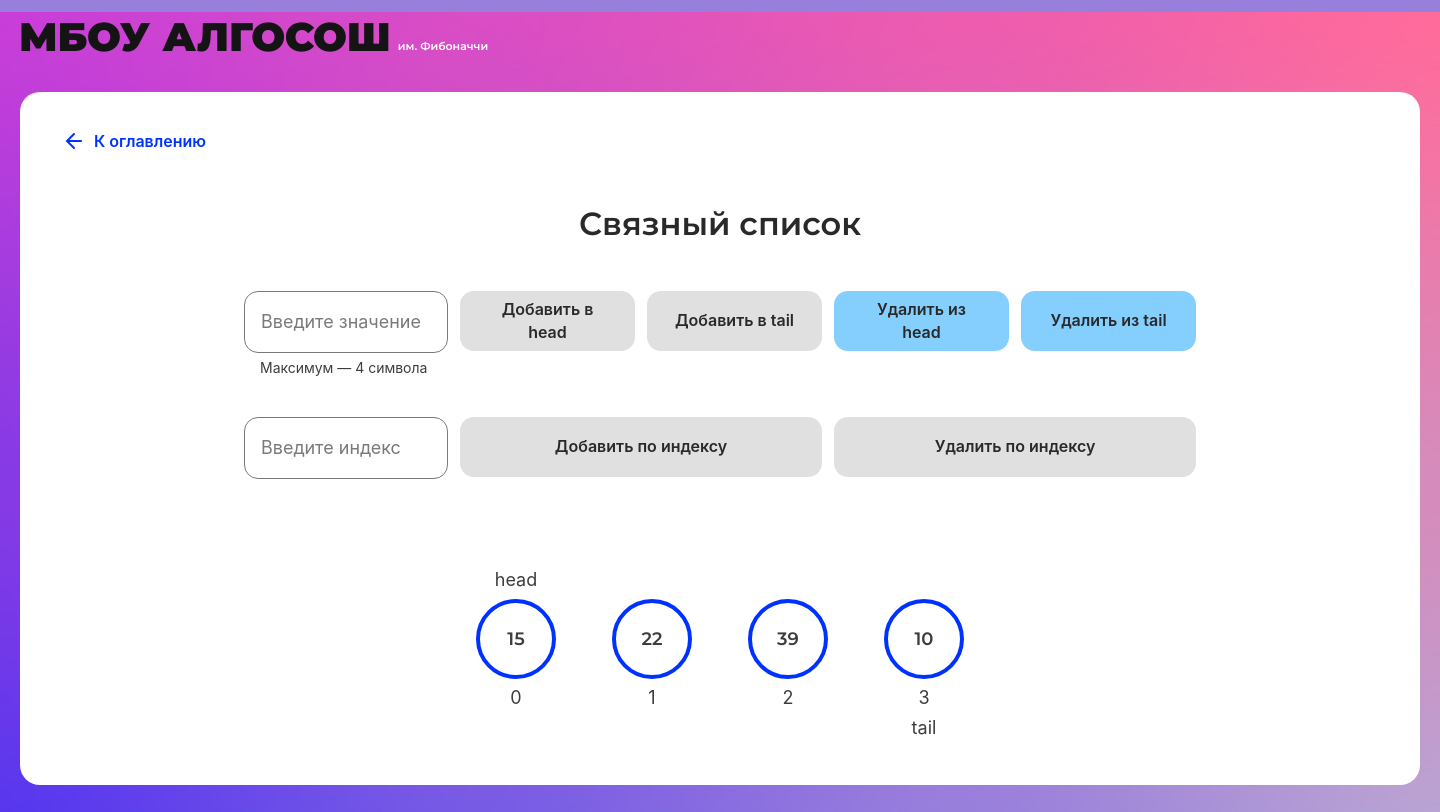
Test: List page test › Add input value cant be longer then 4
In the field with placeholder "Введите значение": {"x": 346, "y": 322} [244, 291, 448, 353], type "11111"
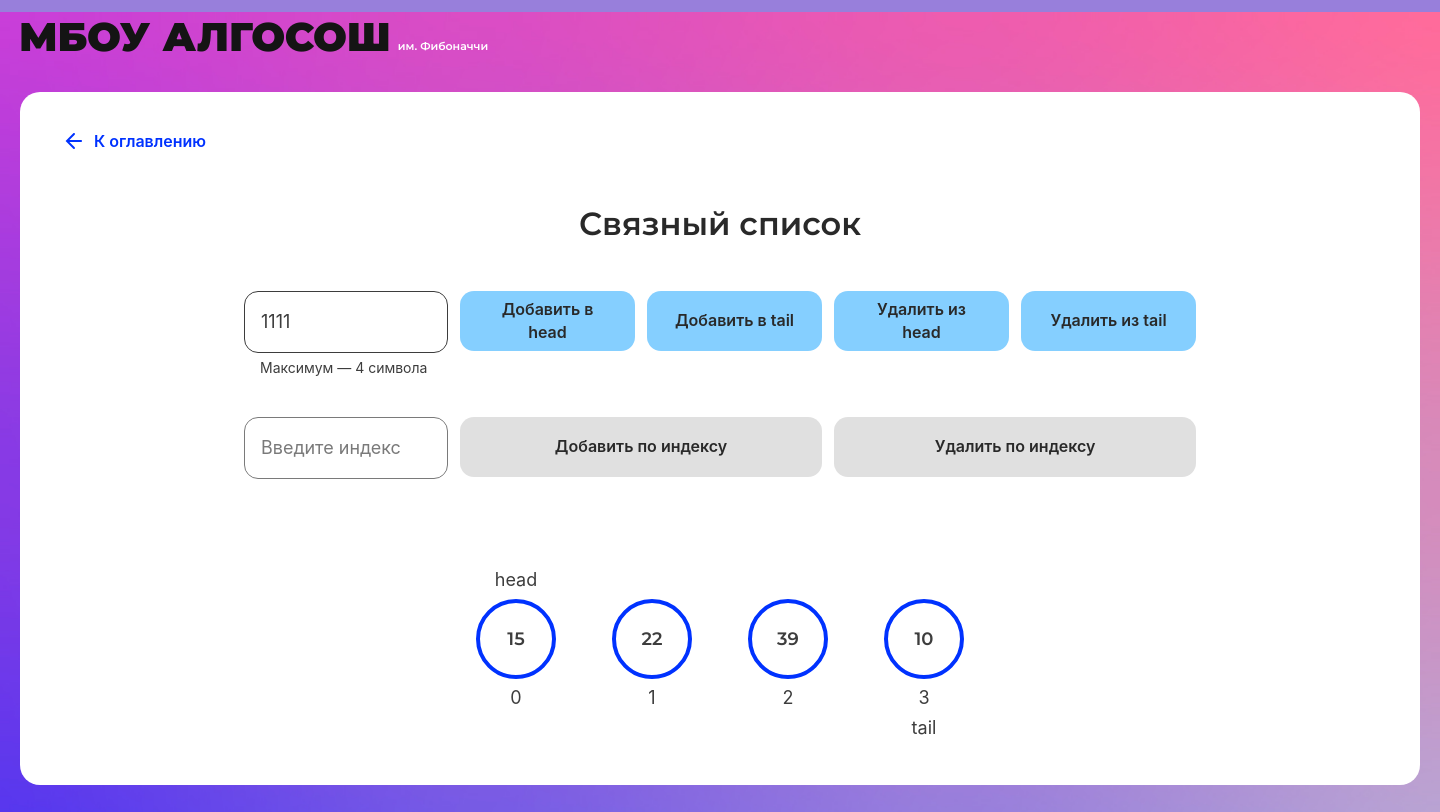
Now the 1st field holds "1111", box [244, 291, 448, 353]
